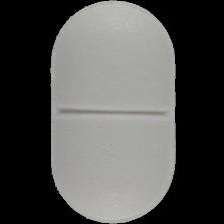42291-815: (0, 0, 224, 224)
